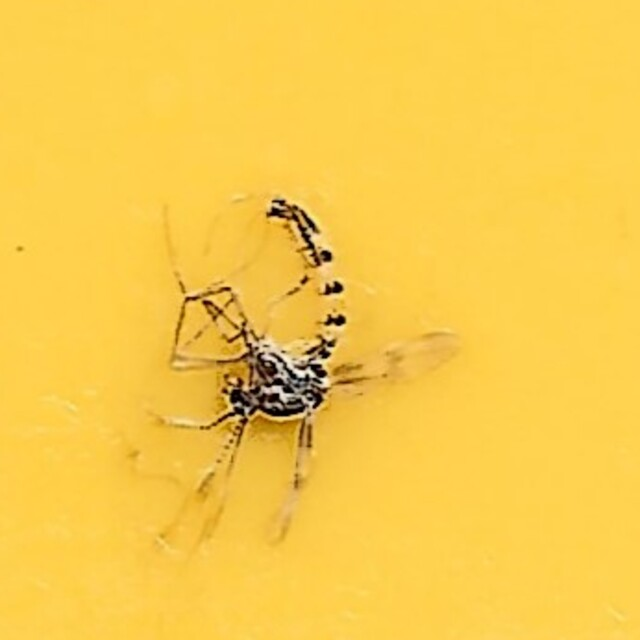Nematocera: (185, 193, 455, 447)
